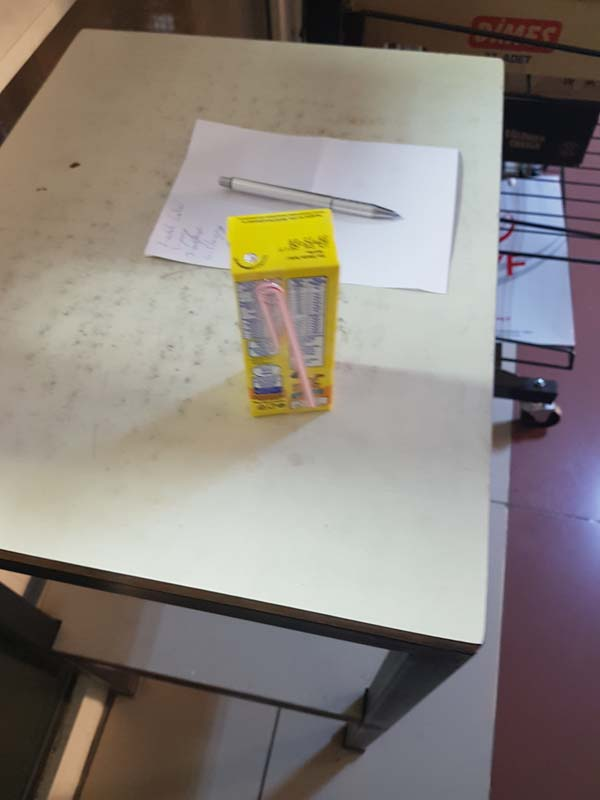nesquick200ml: (228, 210, 343, 416)
